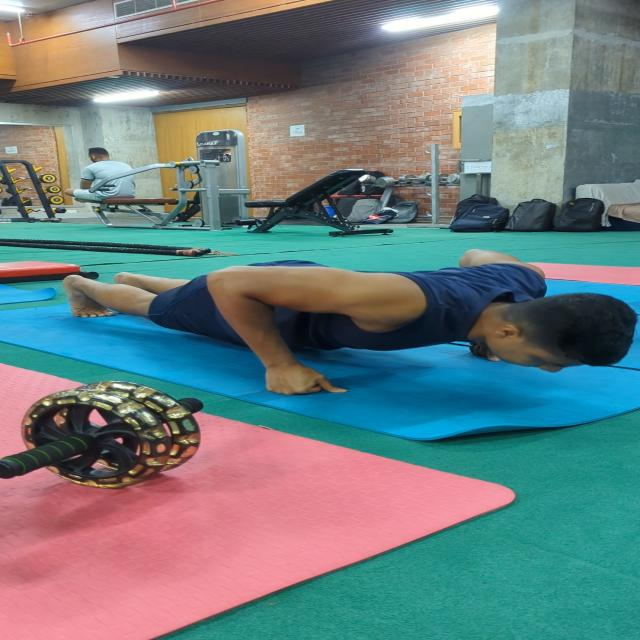Normal_PushUps: (38, 255, 640, 410)
